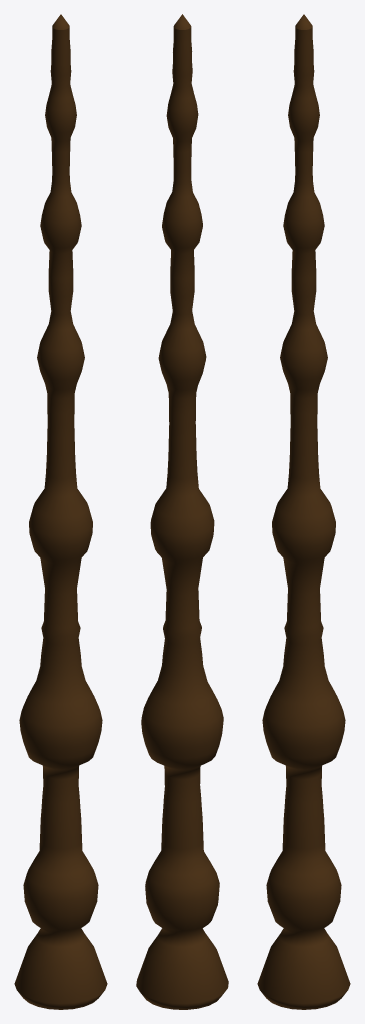
File: Varas.fbx
3 renders of one model, left to right at view 1: azimuth 90°, elevation 25°; view 2: azimuth 150°, elevation 25°; view 3: azimuth 270°, elevation 25°, orthographic.
Parts seen in each view (by area): view 1: Vara; view 2: Vara; view 3: Vara.
Part boxes in pixels (x1,y1,x2,y2): Vara: (14, 14, 107, 1009); Vara: (136, 14, 228, 1009); Vara: (257, 14, 350, 1009).
Bounding box in the file's own units: 53.26 × 618 × 53.26.
